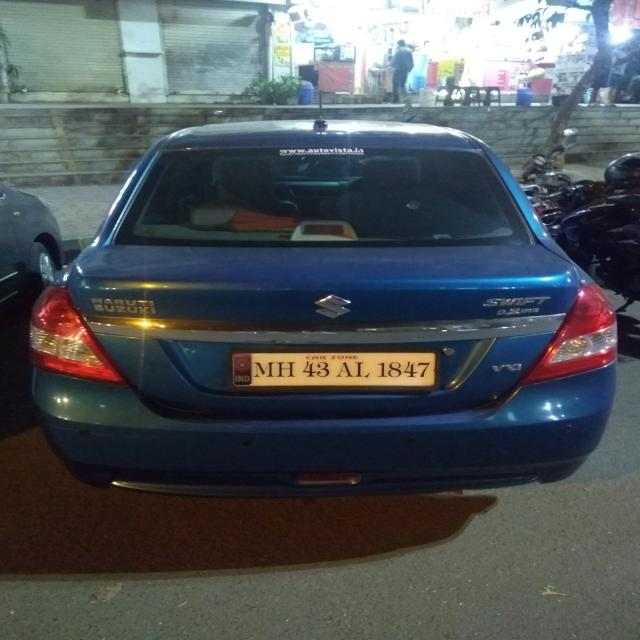Number-Plate: (235, 351, 436, 384)
